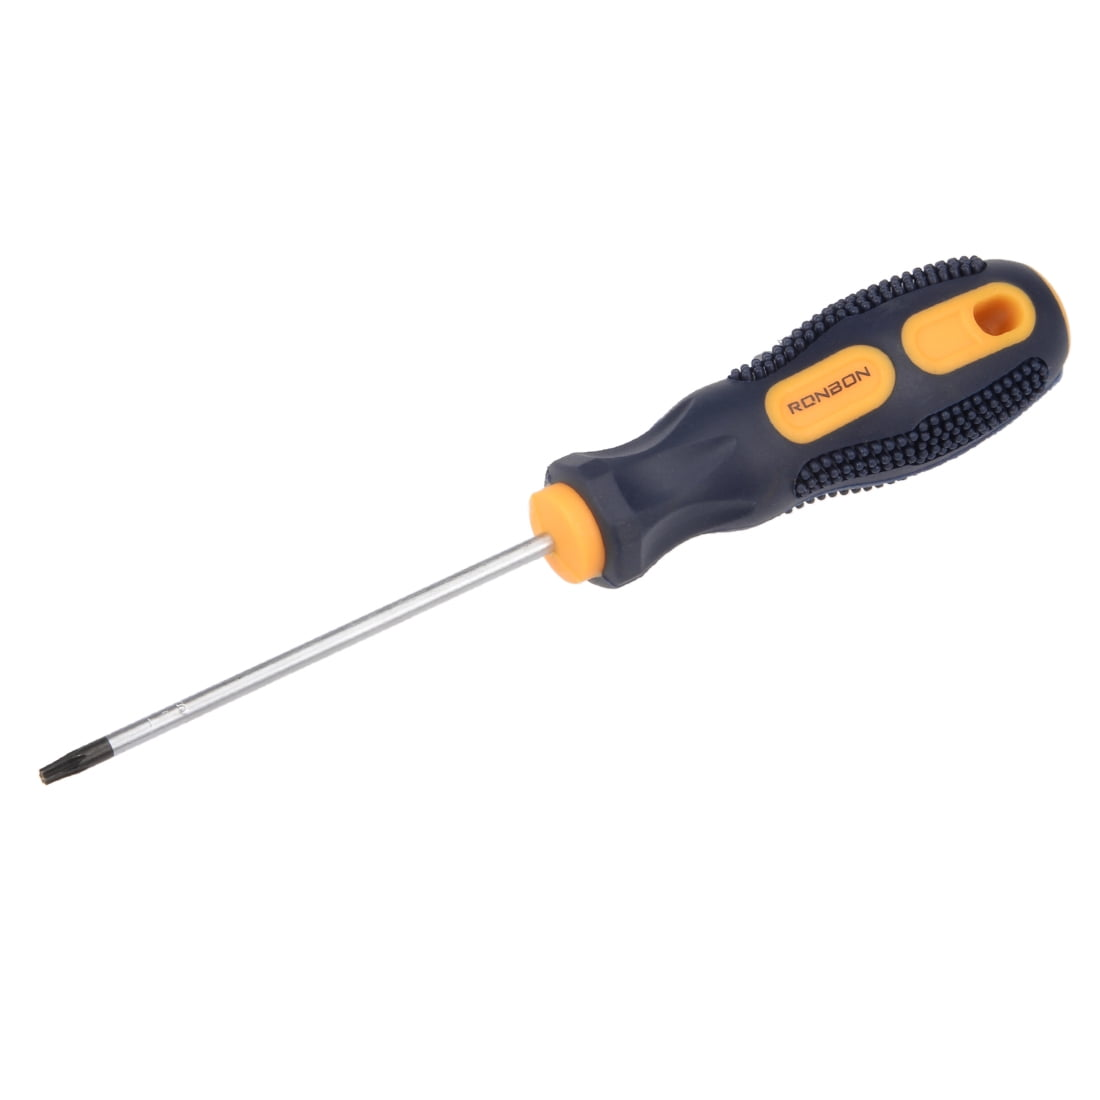screwdriver: (34, 252, 1072, 787)
